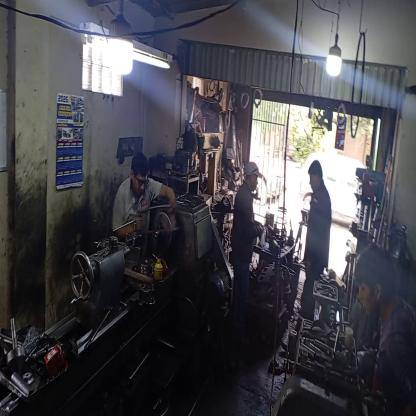lentes: (133, 172, 150, 192)
